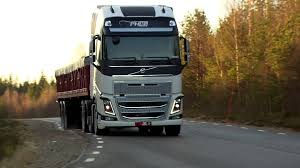truck: (86, 8, 183, 138)
